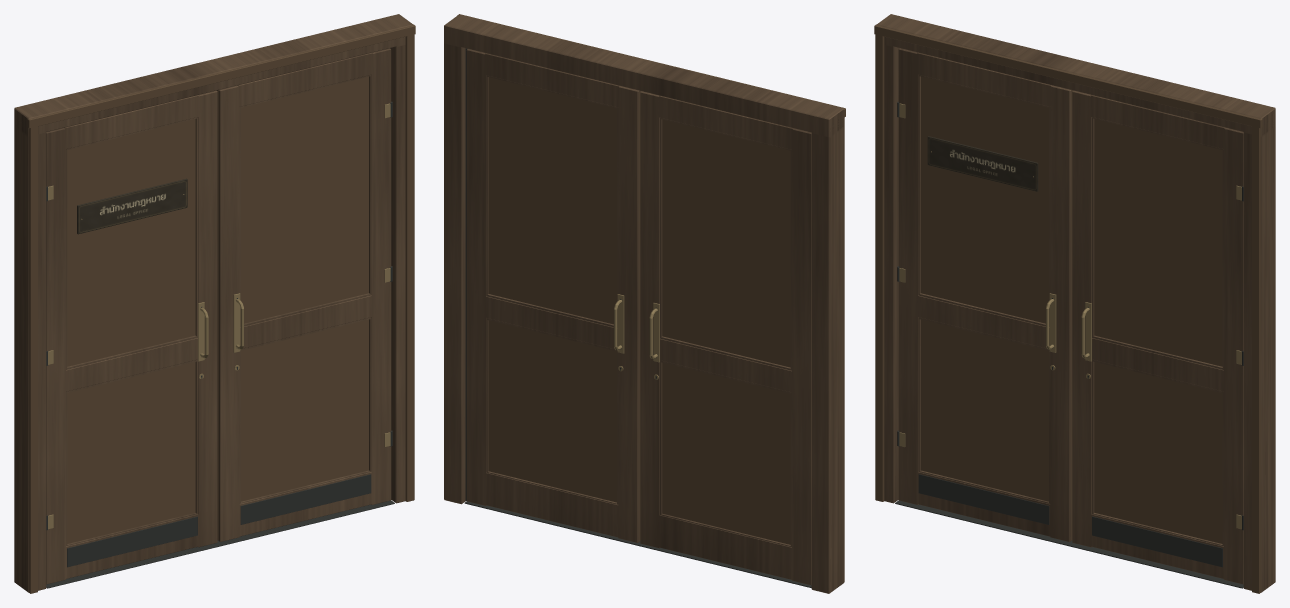
Rendered from LawyerMainDoor.fbx.
The picture shows the model from 3 angles, left to right: view 1: azimuth 30°, elevation 25°; view 2: azimuth 150°, elevation 25°; view 3: azimuth 330°, elevation 25°; orthographic projection.
Parts seen in each view (by area): view 1: RightLeaf_Pivot_PanelInset, LeftLeaf_Pivot_PanelInset, RightLeaf_Pivot_Wood, LeftLeaf_Pivot_Wood, Frame_Fixed_Wood, Frame_Fixed_PanelInset, LeftLeaf_Pivot_Plaque, RightLeaf_Pivot_DarkMetal, LeftLeaf_Pivot_DarkMetal, Frame_Fixed_DarkMetal, RightLeaf_Pivot_Brass, LeftLeaf_Pivot_Brass; view 2: RightLeaf_Pivot_PanelInset, LeftLeaf_Pivot_PanelInset, Frame_Fixed_Wood, RightLeaf_Pivot_Wood, LeftLeaf_Pivot_Wood, Frame_Fixed_DarkMetal, Frame_Fixed_PanelInset, RightLeaf_Pivot_Brass, LeftLeaf_Pivot_Brass; view 3: RightLeaf_Pivot_PanelInset, LeftLeaf_Pivot_PanelInset, LeftLeaf_Pivot_Wood, RightLeaf_Pivot_Wood, Frame_Fixed_Wood, Frame_Fixed_PanelInset, LeftLeaf_Pivot_Plaque, LeftLeaf_Pivot_DarkMetal, RightLeaf_Pivot_DarkMetal, Frame_Fixed_DarkMetal, LeftLeaf_Pivot_Brass, RightLeaf_Pivot_Brass.
Boxes of the visible parts, box(x1,y1,x2,y2) form: RightLeaf_Pivot_PanelInset: box(216, 76, 368, 540); LeftLeaf_Pivot_PanelInset: box(67, 119, 195, 543); RightLeaf_Pivot_Wood: box(218, 48, 391, 541); LeftLeaf_Pivot_Wood: box(46, 90, 217, 584); Frame_Fixed_Wood: box(14, 14, 413, 592); Frame_Fixed_PanelInset: box(27, 24, 415, 593); LeftLeaf_Pivot_Plaque: box(77, 178, 187, 234); RightLeaf_Pivot_DarkMetal: box(236, 101, 392, 524); LeftLeaf_Pivot_DarkMetal: box(46, 186, 202, 567); Frame_Fixed_DarkMetal: box(46, 500, 394, 588); RightLeaf_Pivot_Brass: box(233, 103, 390, 446); LeftLeaf_Pivot_Brass: box(48, 185, 208, 529); RightLeaf_Pivot_PanelInset: box(488, 77, 641, 541); LeftLeaf_Pivot_PanelInset: box(662, 119, 790, 544); Frame_Fixed_Wood: box(444, 14, 843, 593); RightLeaf_Pivot_Wood: box(466, 49, 639, 542); LeftLeaf_Pivot_Wood: box(640, 91, 811, 585); Frame_Fixed_DarkMetal: box(464, 48, 811, 587); Frame_Fixed_PanelInset: box(457, 14, 845, 582); RightLeaf_Pivot_Brass: box(614, 294, 624, 371); LeftLeaf_Pivot_Brass: box(649, 303, 659, 379); RightLeaf_Pivot_PanelInset: box(1094, 119, 1222, 543); LeftLeaf_Pivot_PanelInset: box(921, 76, 1073, 540); LeftLeaf_Pivot_Wood: box(898, 48, 1071, 541); RightLeaf_Pivot_Wood: box(1072, 90, 1243, 584); Frame_Fixed_Wood: box(876, 14, 1275, 592); Frame_Fixed_PanelInset: box(874, 24, 1262, 593); LeftLeaf_Pivot_Plaque: box(927, 136, 1038, 191); LeftLeaf_Pivot_DarkMetal: box(897, 101, 1053, 524); RightLeaf_Pivot_DarkMetal: box(1087, 186, 1243, 567); Frame_Fixed_DarkMetal: box(895, 500, 1243, 588); LeftLeaf_Pivot_Brass: box(899, 103, 1056, 446); RightLeaf_Pivot_Brass: box(1081, 185, 1241, 529).
Bounding box in the file's own units: 2.21 × 2.6 × 0.228.
